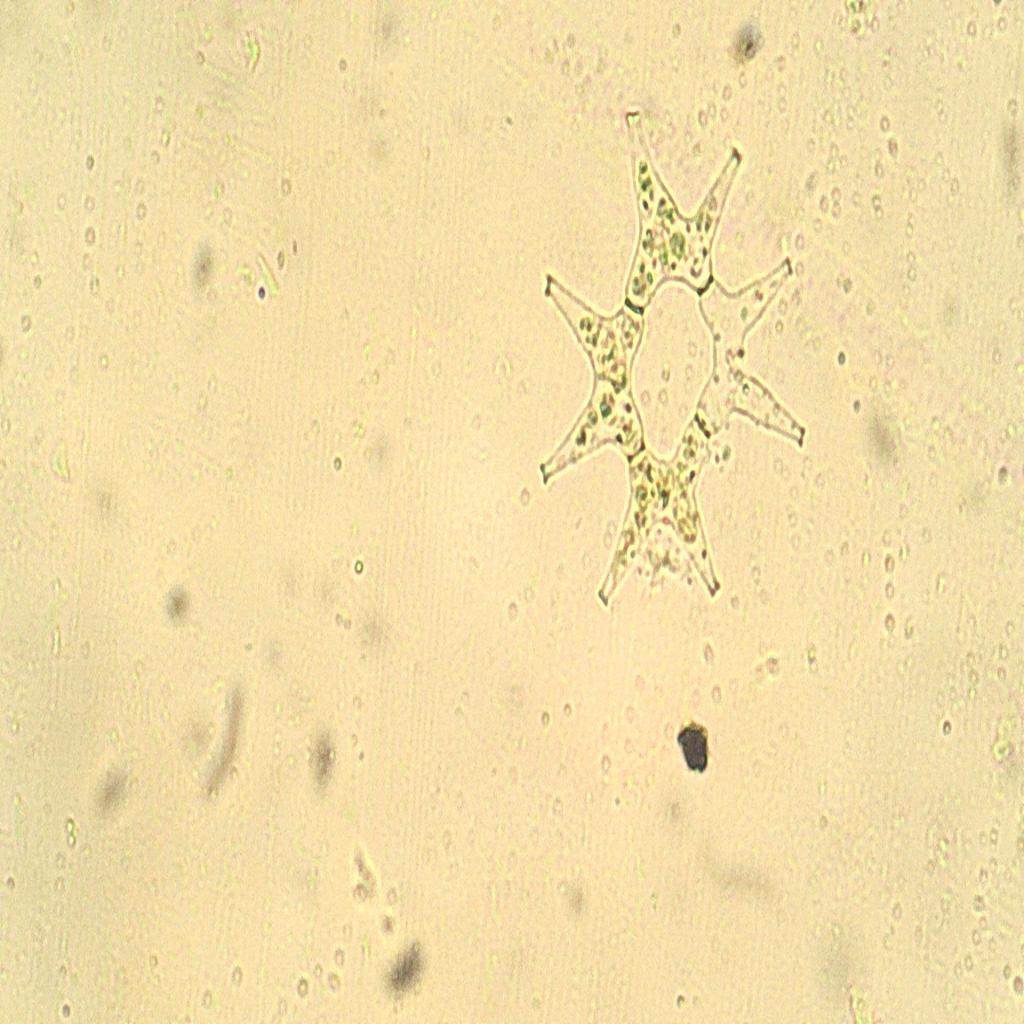Pediastrum_1F0: (511, 86, 837, 642)
